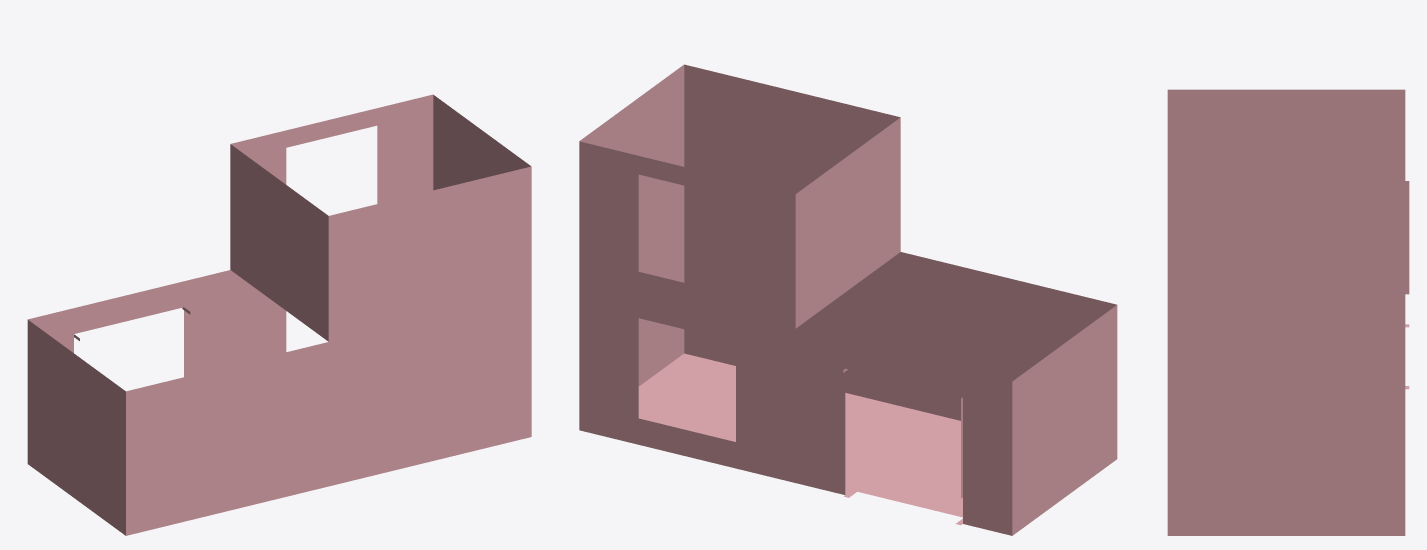
The model's file is Bld_R_med_L1_C.fbx.
3 views of the same model, side by side, from view 1: azimuth 30°, elevation 25°; view 2: azimuth 150°, elevation 25°; view 3: azimuth 270°, elevation 25° (orthographic). The views are drawn at different scales.
Parts seen in each view (by area): view 1: Bld_R_med_L1_C_LOD0; view 2: Bld_R_med_L1_C_LOD0; view 3: Bld_R_med_L1_C_LOD0.
Boxes of the visible parts, box(x1,y1,x2,y2) form: Bld_R_med_L1_C_LOD0: box(27, 94, 531, 535); Bld_R_med_L1_C_LOD0: box(579, 64, 1117, 535); Bld_R_med_L1_C_LOD0: box(1167, 89, 1409, 535).
Size of what is drawn, in the model's own units: 1400 by 1248 by 600.
1 material, 1 textured.
